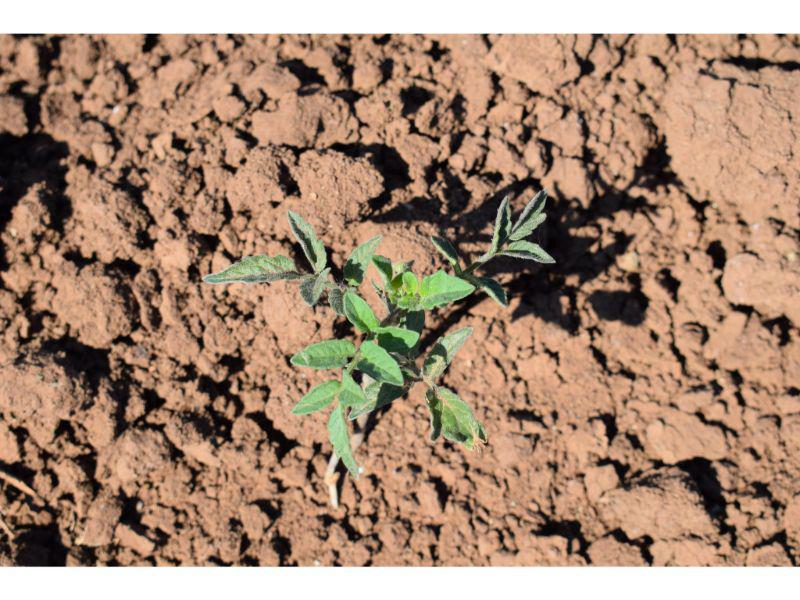tomato: (202, 187, 551, 475)
